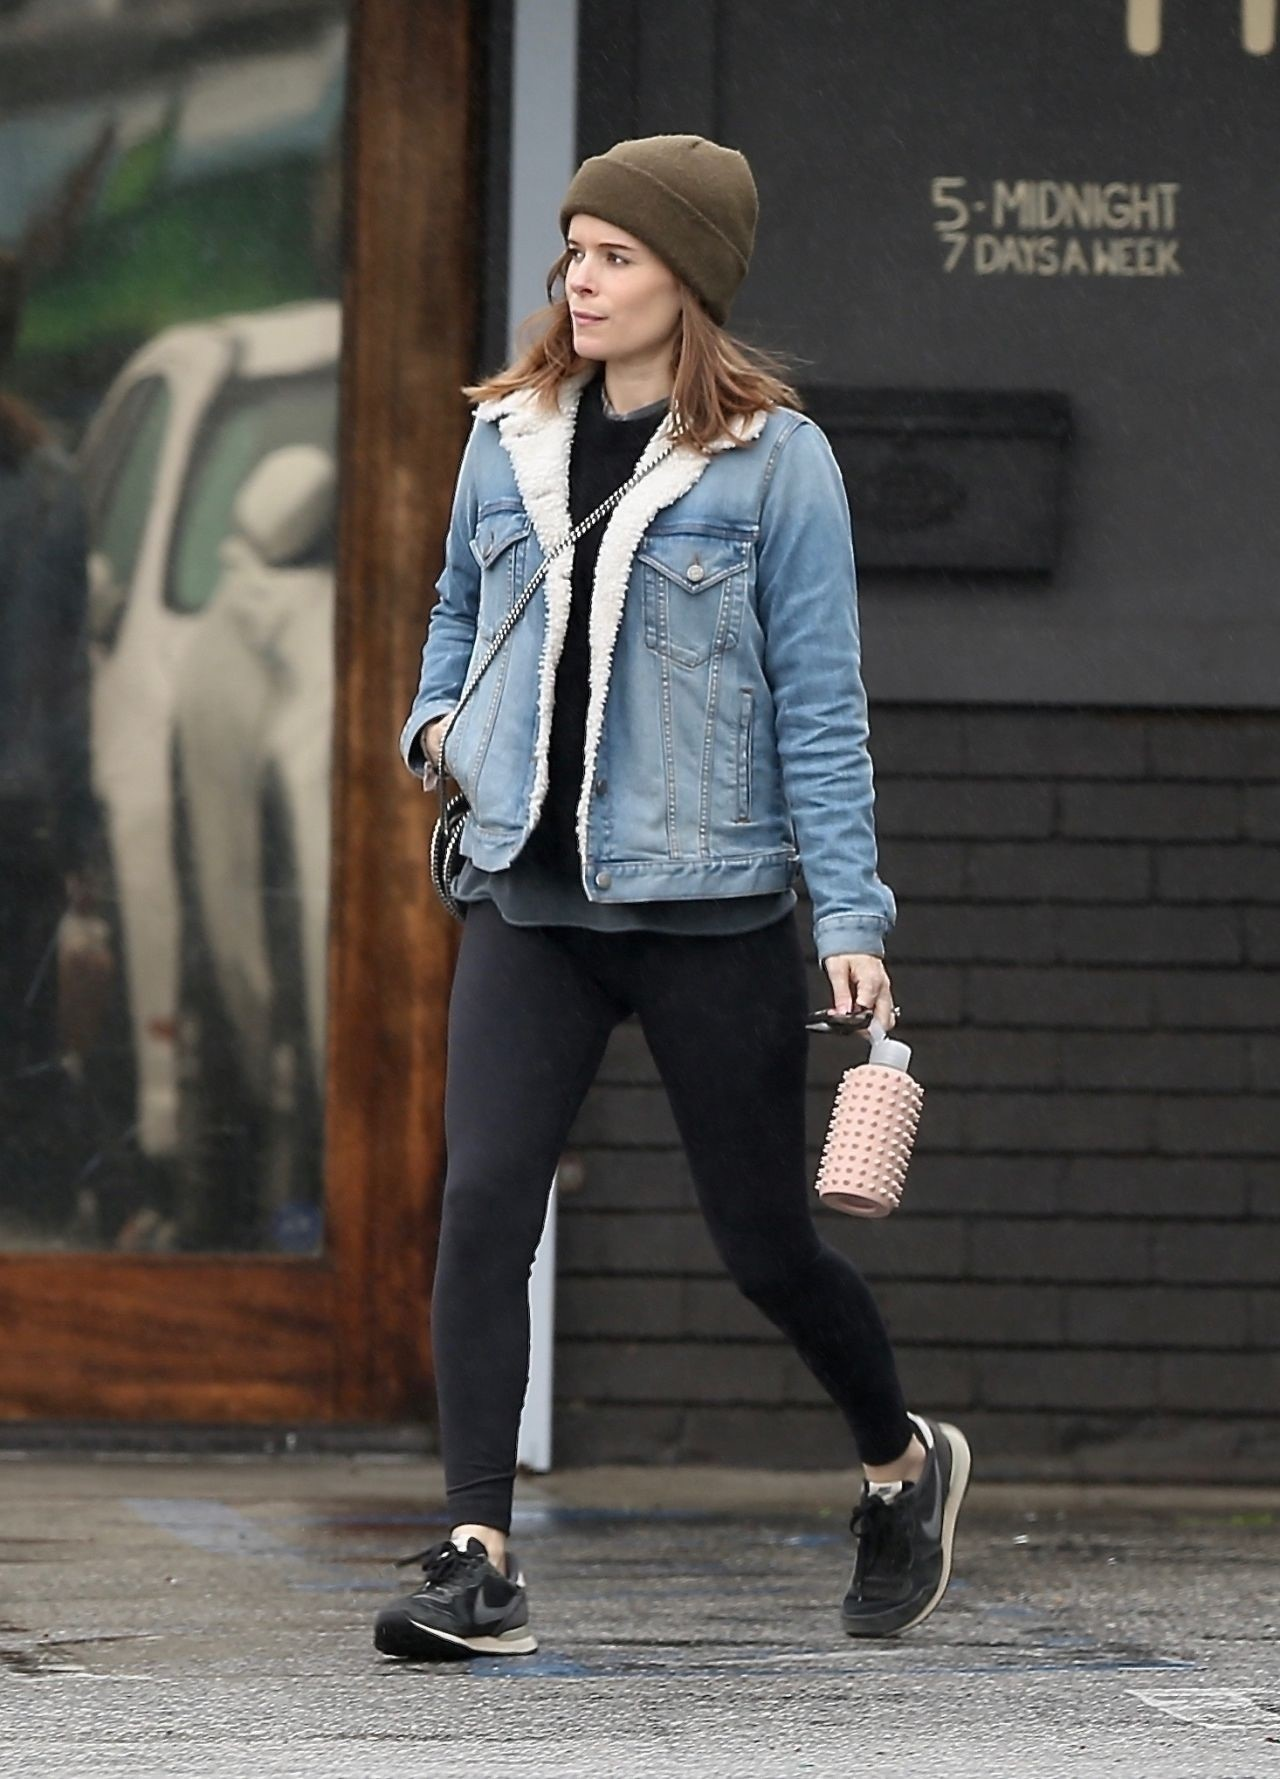face_no_mask: (555, 168, 740, 363)
